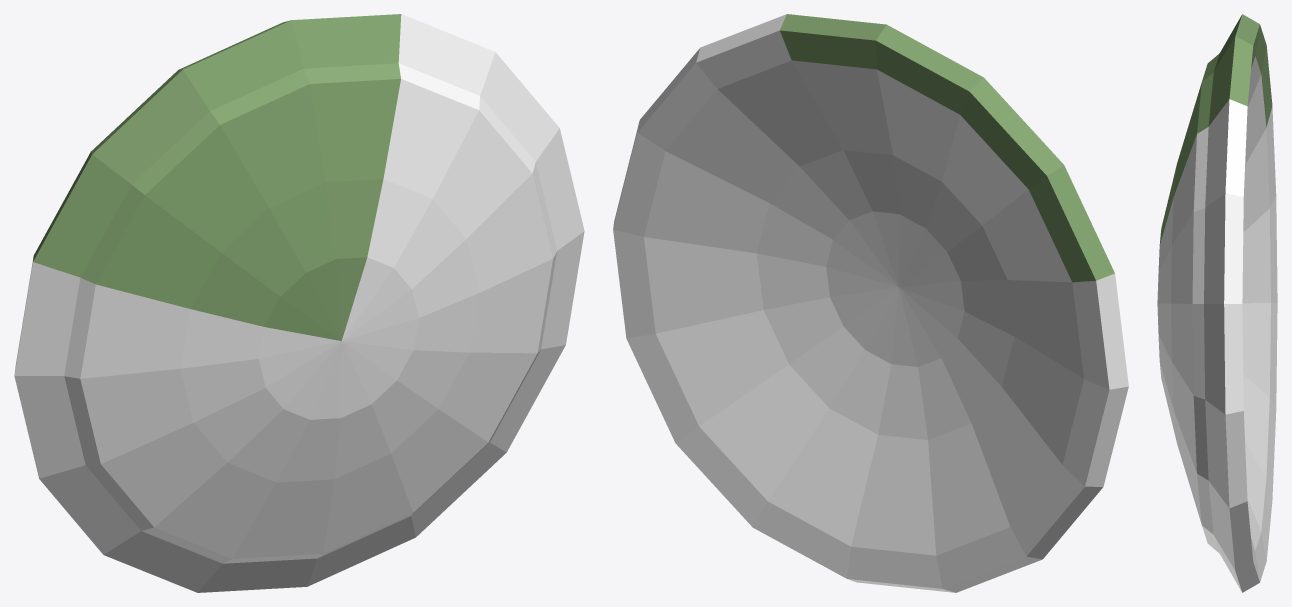
File: shield.fbx
The picture shows the model from 3 angles, left to right: view 1: azimuth 30°, elevation 25°; view 2: azimuth 150°, elevation 25°; view 3: azimuth 270°, elevation 25°; orthographic projection. The views are drawn at different scales.
Visible parts, largest first — view 1: roundshield; view 2: roundshield; view 3: roundshield.
Boxes of the visible parts, x1=… form: roundshield: x1=14, y1=14, x2=584, y2=592; roundshield: x1=613, y1=14, x2=1128, y2=592; roundshield: x1=1157, y1=14, x2=1277, y2=592.
Bounding box in the file's own units: 75.83 × 75.93 × 15.79.
